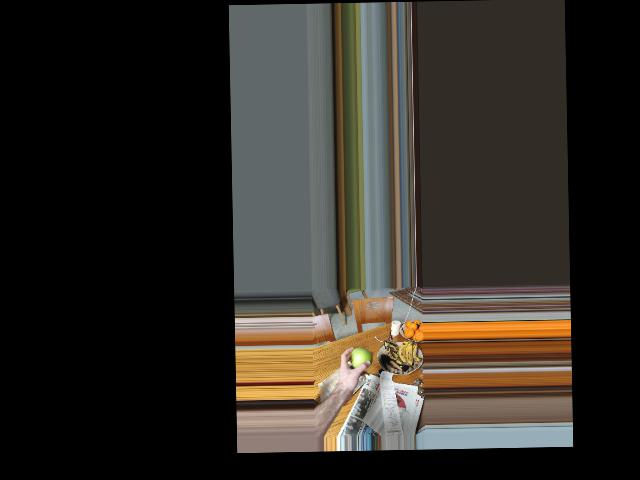apple: (350, 346, 371, 372)
